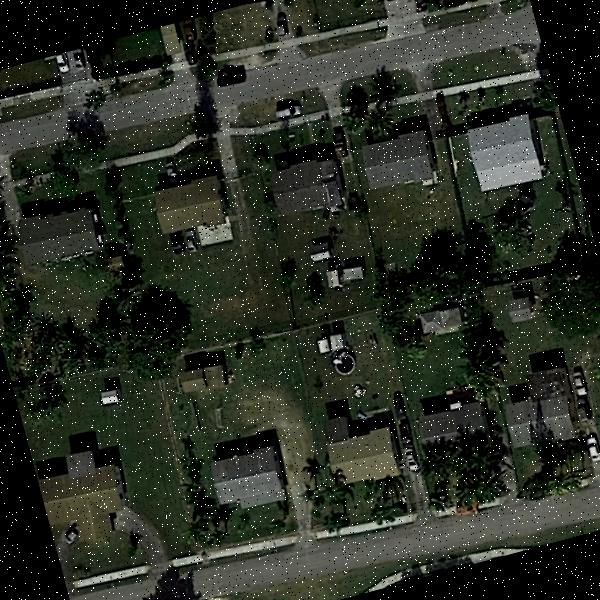Buildings: (34, 436, 137, 542), (498, 369, 582, 450), (462, 113, 548, 192), (15, 200, 106, 274), (146, 174, 236, 240), (205, 444, 282, 511), (362, 129, 438, 191), (329, 429, 399, 493), (273, 161, 354, 212), (418, 398, 490, 442), (182, 362, 228, 392)
